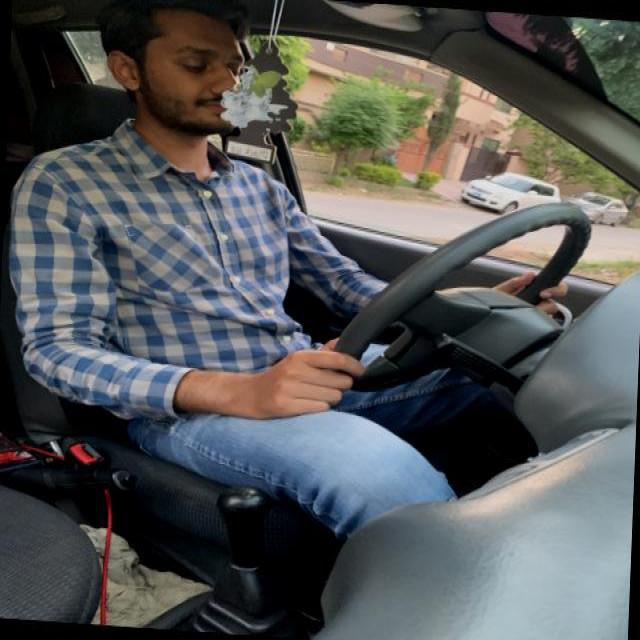no-seatbelt: (67, 147, 276, 500)
